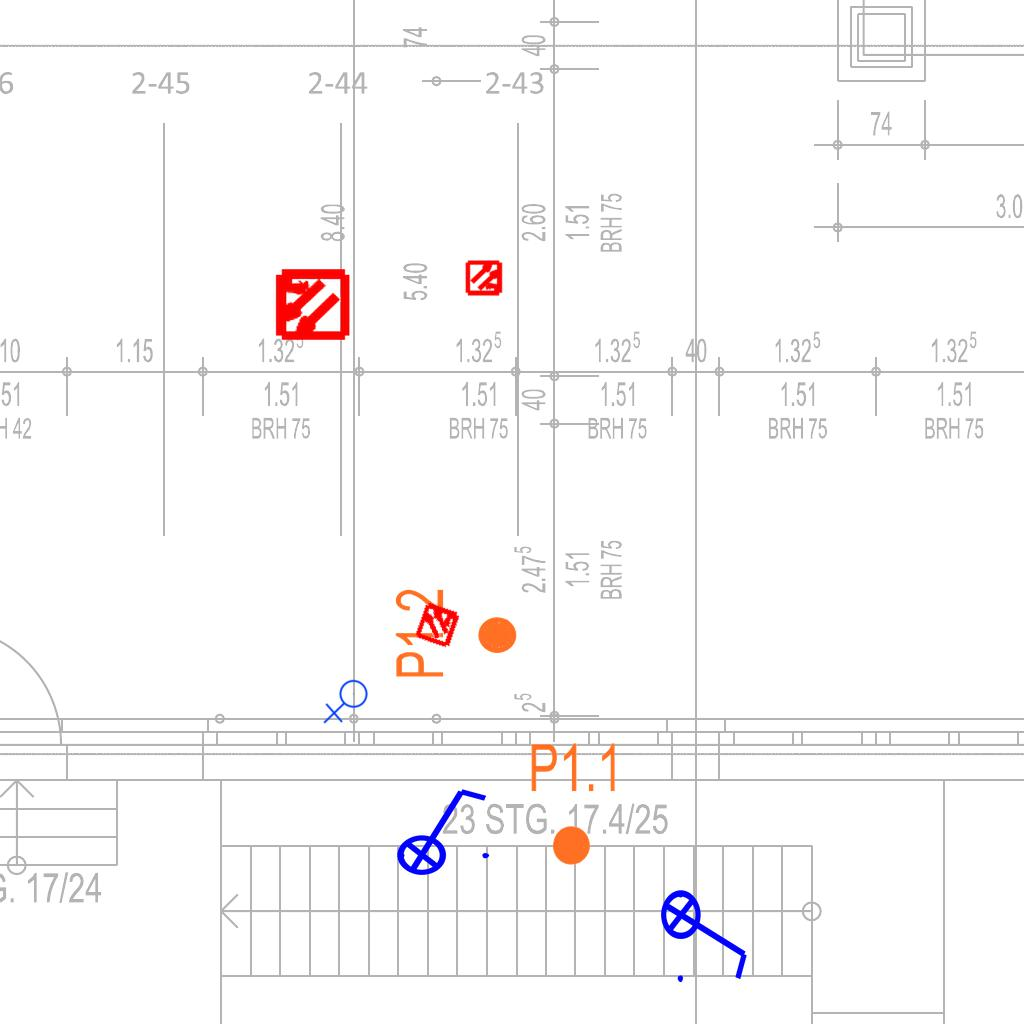Ausschalter_beleuchtet: (659, 876, 755, 988), (383, 781, 495, 877)
Downlight_LED_Einbauleuchten_Flur: (528, 740, 621, 868), (392, 587, 520, 680)
Elektroanschluss_allgemein_230V_Geraeteanschlussdose_230V: (323, 679, 372, 726)
OT_Multisensormelder_(Kombination_RMO_WMD): (254, 248, 367, 361), (402, 588, 474, 660), (457, 250, 513, 306)
